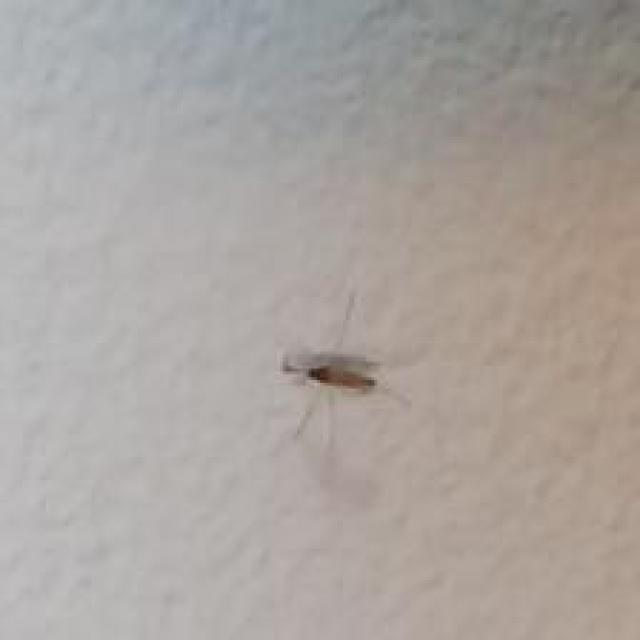Culex: (277, 290, 412, 453)
